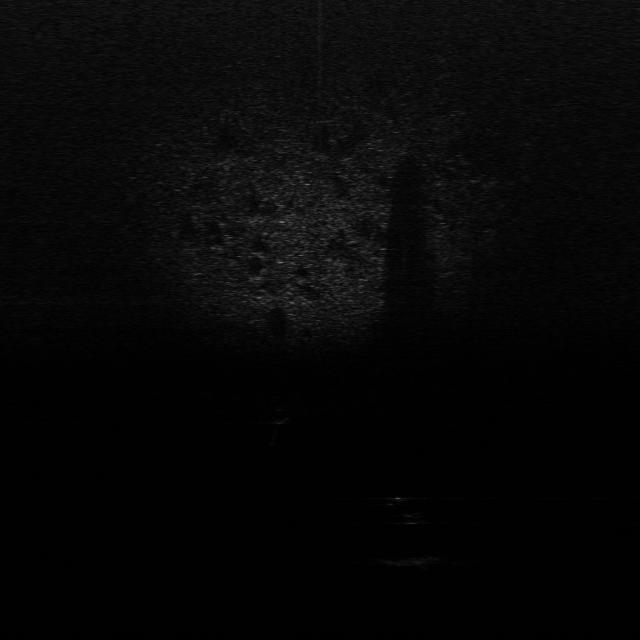ball: (264, 404, 294, 427)
metal bucket: (383, 545, 447, 573)
tyre: (381, 492, 433, 527)
